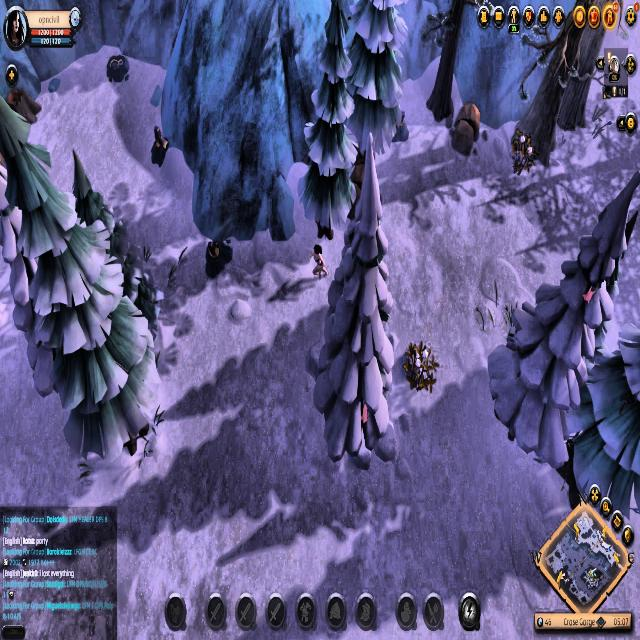copper_ore: (204, 236, 234, 286), (147, 124, 172, 168)
cotton: (404, 346, 444, 396), (511, 126, 537, 183)
limestone: (451, 102, 484, 155)
